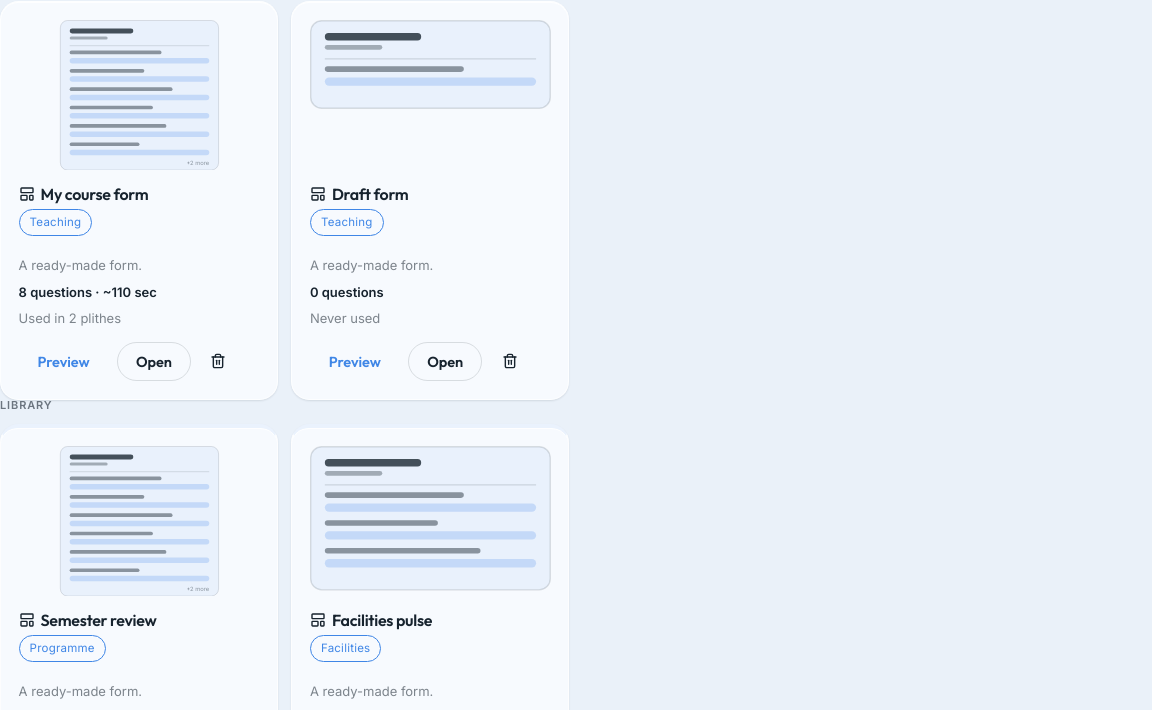
Test case: delete states its consequence, and refuses when the server would › opens the dialog for an IN-USE template but cannot confirm it
(page scrolled)
Click the button named "Delete My course form" below "Used in 2 plithes" at (218, 360), box [199,342,237,380]
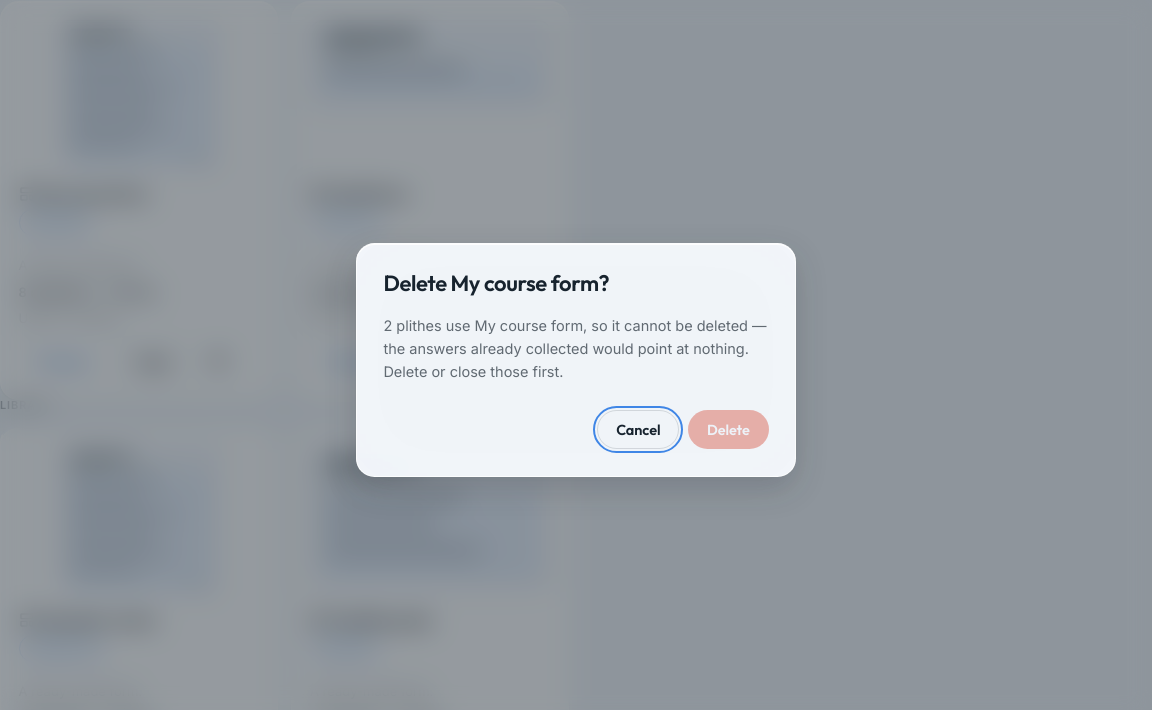
Expected: the text "2 plithes use My course form" is shown, [383,316,767,380]
Expected: the button "Delete" is disabled, [688,410,769,449]
